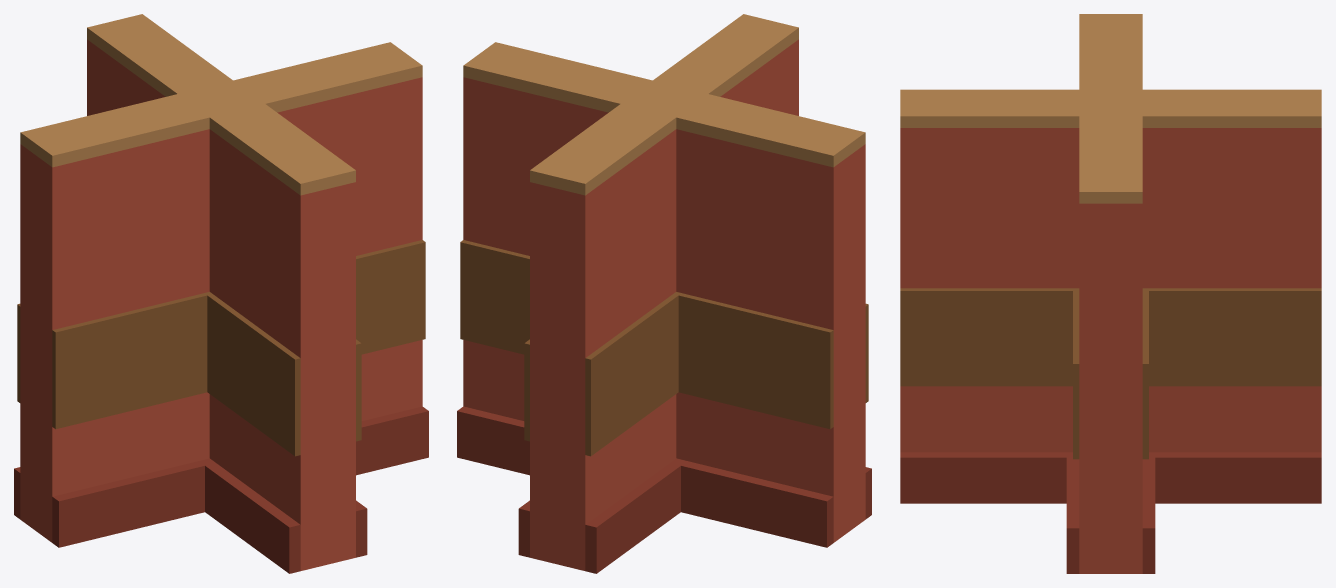
Rendered from partition-full-cross.glb.
The picture shows the model from 3 angles, left to right: view 1: azimuth 30°, elevation 25°; view 2: azimuth 150°, elevation 25°; view 3: azimuth 270°, elevation 25°; orthographic projection.
Parts seen in each view (by area): view 1: partition-full-cross; view 2: partition-full-cross; view 3: partition-full-cross.
Boxes of the visible parts, bbox=[...] form: partition-full-cross: bbox=[14, 14, 428, 573]; partition-full-cross: bbox=[457, 14, 871, 573]; partition-full-cross: bbox=[900, 14, 1321, 573].
Bounding box in the file's own units: 1 × 1 × 1.
1 material, 1 textured.
